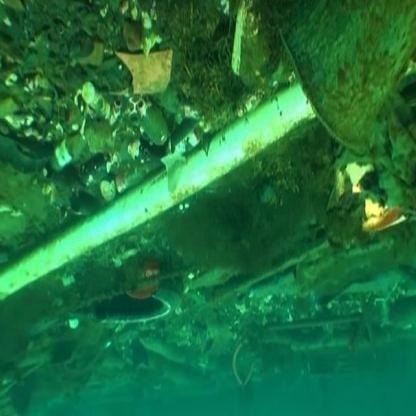rod: (13, 112, 320, 257)
tire: (82, 273, 184, 346)
